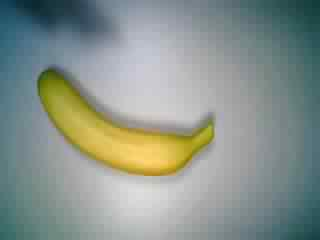banana: (29, 66, 219, 176)
